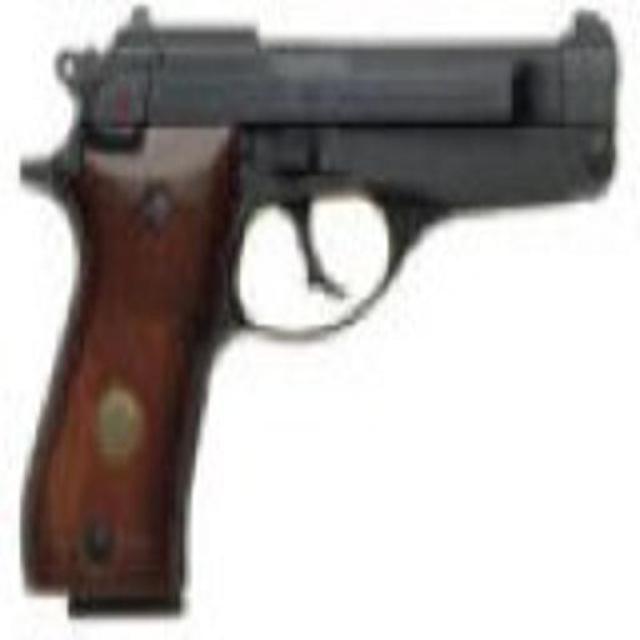pistol: (20, 10, 615, 617)
